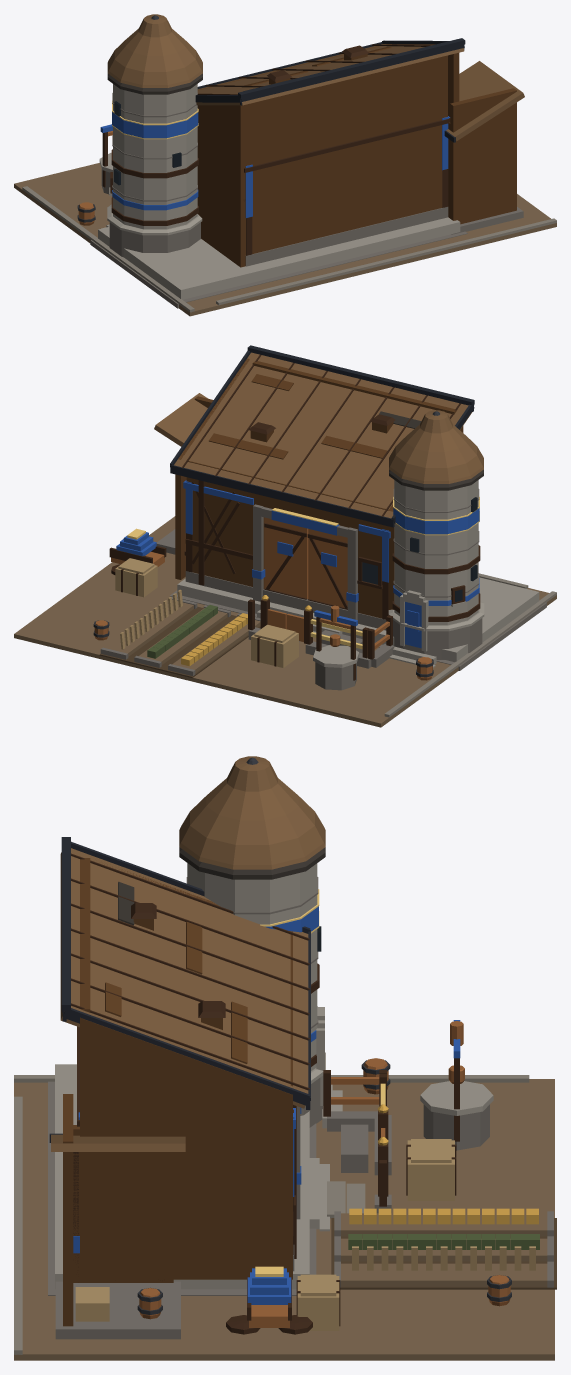
3 views of the same model, one above another, from view 1: azimuth 30°, elevation 25°; view 2: azimuth 150°, elevation 25°; view 3: azimuth 270°, elevation 25° (orthographic). The views are drawn at different scales.
Visible parts, largest first — view 1: FM-主体, FM-team, FM-team_trim; view 2: FM-主体, FM-team, FM-team_trim, FM-自发光; view 3: FM-主体, FM-team.
Part boxes in pixels (x1,y1,x2,y2): FM-主体: (14, 14, 556, 316); FM-team: (100, 112, 450, 217); FM-team_trim: (112, 101, 198, 139); FM-主体: (14, 345, 556, 727); FM-team: (116, 480, 479, 648); FM-team_trim: (127, 497, 479, 649); FM-自发光: (362, 497, 477, 601); FM-主体: (14, 756, 556, 1360); FM-team: (73, 906, 460, 1304).
Size of the model in its own units: 15.35 by 9.32 by 12.75.
Materials: 4 (2 with a texture image).
